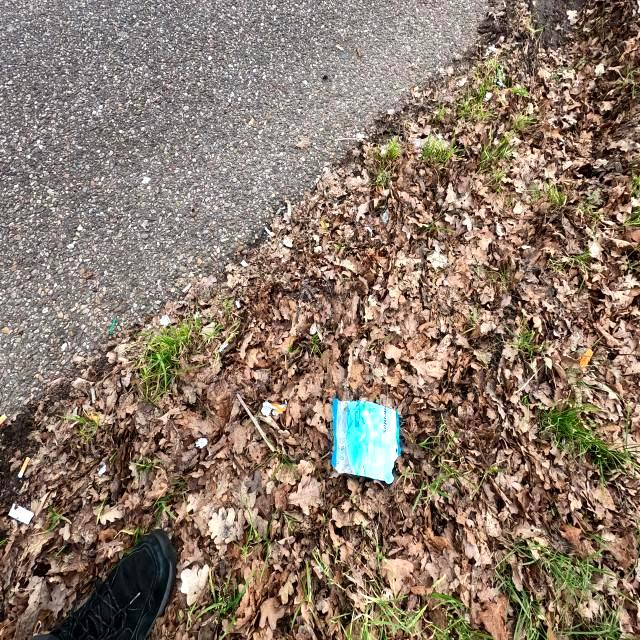Plastic: (322, 394, 406, 482)
